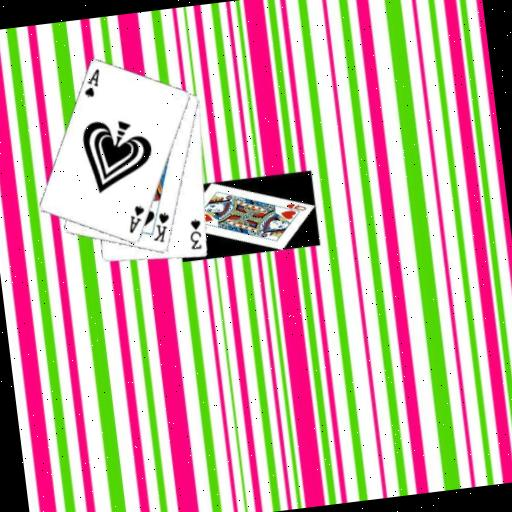3S: (185, 216, 206, 253)
AS: (123, 202, 149, 236), (78, 66, 104, 100)
KS: (147, 209, 174, 246)
